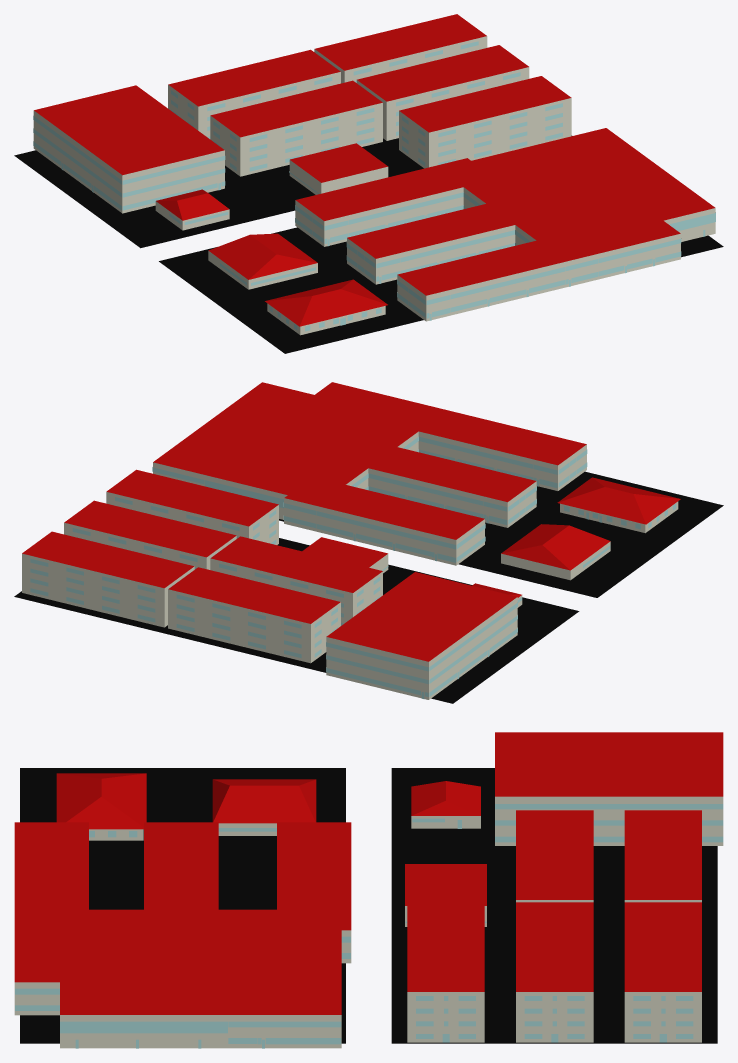
3 renders of one model, top to bottom at view 1: azimuth 30°, elevation 25°; view 2: azimuth 150°, elevation 25°; view 3: azimuth 270°, elevation 25°, orthographic. The views are drawn at different scales.
Parts seen in each view (by area): view 1: Roofs, Walls, Ground, Windows; view 2: Roofs, Walls, Ground, Windows; view 3: Roofs, Ground, Walls, Windows.
Part boxes in pixels (x1,y1,x2,y2): Roofs: (34, 14, 715, 326); Walls: (33, 36, 715, 335); Ground: (14, 135, 723, 353); Windows: (33, 41, 715, 331); Roofs: (22, 382, 680, 661); Walls: (22, 431, 678, 699); Ground: (14, 471, 723, 703); Windows: (30, 436, 676, 698); Roofs: (14, 732, 723, 1014); Ground: (20, 768, 717, 1043); Walls: (14, 796, 723, 1048); Windows: (15, 804, 723, 1048).
Bounding box in the file's own units: 145 × 12.19 × 155.
